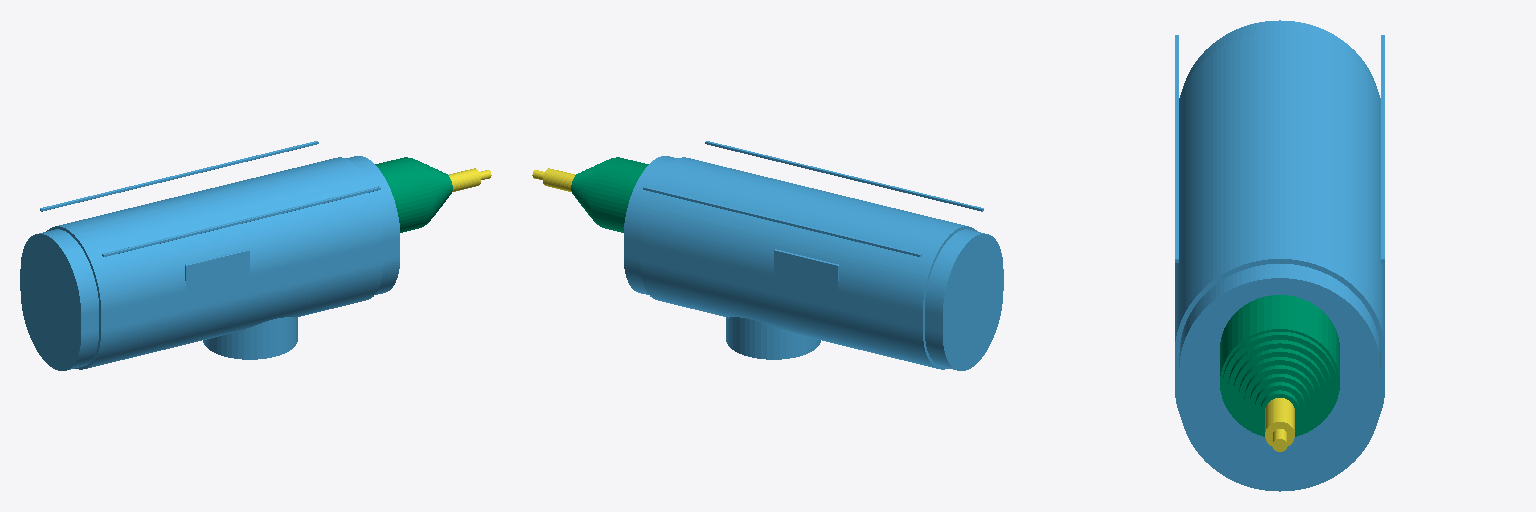
The robot description file, URDF, robot "onrobot_screwdriver_103961_a50":
<?xml version="1.0"?>
<robot name="onrobot_screwdriver_103961_a50">
<link name="mount"></link>
<link name="body"><visual ><geometry ><mesh filename="../meshes/body.obj"/></geometry></visual><collision ><origin xyz="0 0 0.012" rpy="0 0 0"/><geometry ><cylinder radius="0.032" length="0.024"/></geometry></collision><collision ><origin xyz="-0.0311 0 0.064" rpy="0 0 0"/><geometry ><box size="0.22 0.086 0.1"/></geometry></collision><collision ><origin xyz="-0.1484 0 0.064" rpy="0 0 0"/><geometry ><box size="0.014 0.082 0.096"/></geometry></collision><collision ><origin xyz="0.0862 0 0.064" rpy="0 0 0"/><geometry ><box size="0.014 0.082 0.096"/></geometry></collision></link>
<link name="nose"><visual ><geometry ><mesh filename="../meshes/nose.obj"/></geometry></visual><collision ><origin xyz="0.1097 0 0.08" rpy="0 1.57079632679 0"/><geometry ><cylinder radius="0.0245" length="0.033"/></geometry></collision><collision ><origin xyz="0.12788125 0 0.08" rpy="0 1.57079632679 0"/><geometry ><cylinder radius="0.023390625" length="0.003362500000000001"/></geometry></collision><collision ><origin xyz="0.13124375 0 0.08" rpy="0 1.57079632679 0"/><geometry ><cylinder radius="0.021171875" length="0.003362500000000001"/></geometry></collision><collision ><origin xyz="0.13460625 0 0.08" rpy="0 1.57079632679 0"/><geometry ><cylinder radius="0.018953125" length="0.003362500000000001"/></geometry></collision><collision ><origin xyz="0.13796875 0 0.08" rpy="0 1.57079632679 0"/><geometry ><cylinder radius="0.016734375" length="0.003362500000000001"/></geometry></collision><collision ><origin xyz="0.14133125 0 0.08" rpy="0 1.57079632679 0"/><geometry ><cylinder radius="0.014515625" length="0.003362500000000001"/></geometry></collision><collision ><origin xyz="0.14469375 0 0.08" rpy="0 1.57079632679 0"/><geometry ><cylinder radius="0.012296874999999999" length="0.003362500000000001"/></geometry></collision><collision ><origin xyz="0.14805625 0 0.08" rpy="0 1.57079632679 0"/><geometry ><cylinder radius="0.010078125" length="0.003362500000000001"/></geometry></collision><collision ><origin xyz="0.15141875 0 0.08" rpy="0 1.57079632679 0"/><geometry ><cylinder radius="0.007859374999999998" length="0.003362500000000001"/></geometry></collision></link>
<link name="bit"><visual ><geometry ><mesh filename="../meshes/bit.obj"/></geometry></visual><collision ><origin xyz="0 0 -0.005" rpy="0 0 0"/><geometry ><cylinder radius="0.003" length="0.01"/></geometry></collision><collision ><origin xyz="0 0 -0.035" rpy="0 0 0"/><geometry ><cylinder radius="0.0061" length="0.05"/></geometry></collision></link>
<link name="tip"></link>
<joint name="body_fixed" type="fixed"><parent link="mount"/><child link="body"/><origin xyz="0 0 0" rpy="0 0 0"/></joint>
<joint name="nose_fixed" type="fixed"><parent link="body"/><child link="nose"/><origin xyz="0 0 0" rpy="0 0 0"/></joint>
<joint name="shank" type="prismatic"><parent link="nose"/><child link="bit"/><origin xyz="0.1861 0 0.08" rpy="0 1.57079632679 0"/><axis xyz="0 0 1"/><limit lower="0" upper="0.055" effort="50" velocity="0.2"/></joint>
<joint name="tip_fixed" type="fixed"><parent link="bit"/><child link="tip"/><origin xyz="0 0 0" rpy="3.14159265359 0 0"/></joint>
</robot>

--- Facts derived from the render (not from the file) ---
The picture shows the robot from 3 angles, left to right: view 1: azimuth 30°, elevation 25°; view 2: azimuth 150°, elevation 25°; view 3: azimuth 270°, elevation 25°; orthographic projection.
Robot: onrobot_screwdriver_103961_a50 — 5 links, 4 joints (1 prismatic, 3 fixed); root link mount; default pose: every joint at zero.
Links seen in each view (by area): view 1: body, nose, bit; view 2: body, nose, bit; view 3: body, nose, bit.
Boxes of the visible links, x1,y1,x2,y2 form: body: (20,141,399,370); nose: (375,157,452,232); bit: (449,168,491,191); body: (624,141,1003,370); nose: (571,157,648,232); bit: (532,168,574,191); body: (1175,20,1384,491); nose: (1220,295,1339,436); bit: (1265,398,1294,451).
Size in the robot's own frame: 0.3415 by 0.086 by 0.114 metres.
3 mesh visuals loaded from 3 distinct referenced files (3 OBJ).
